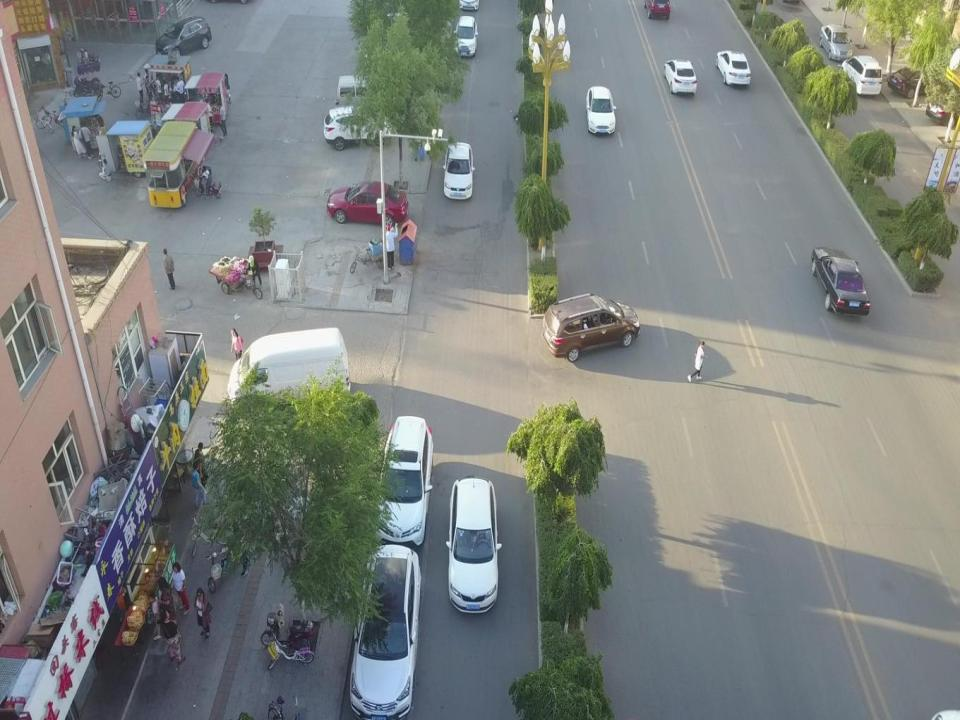car: (349, 544, 422, 720), (445, 477, 502, 614), (376, 416, 434, 549), (146, 101, 214, 208), (542, 294, 640, 362), (811, 247, 870, 317), (328, 182, 408, 228), (323, 107, 392, 151), (155, 15, 212, 58), (888, 57, 944, 98), (442, 141, 474, 201), (585, 85, 616, 136), (924, 83, 960, 125), (377, 12, 424, 44), (715, 50, 751, 91), (663, 58, 697, 98), (820, 24, 852, 61), (194, 175, 222, 201), (644, 0, 670, 21), (458, 0, 479, 9)
van: (227, 327, 350, 408), (334, 74, 394, 118), (840, 55, 882, 99), (453, 15, 478, 57)
